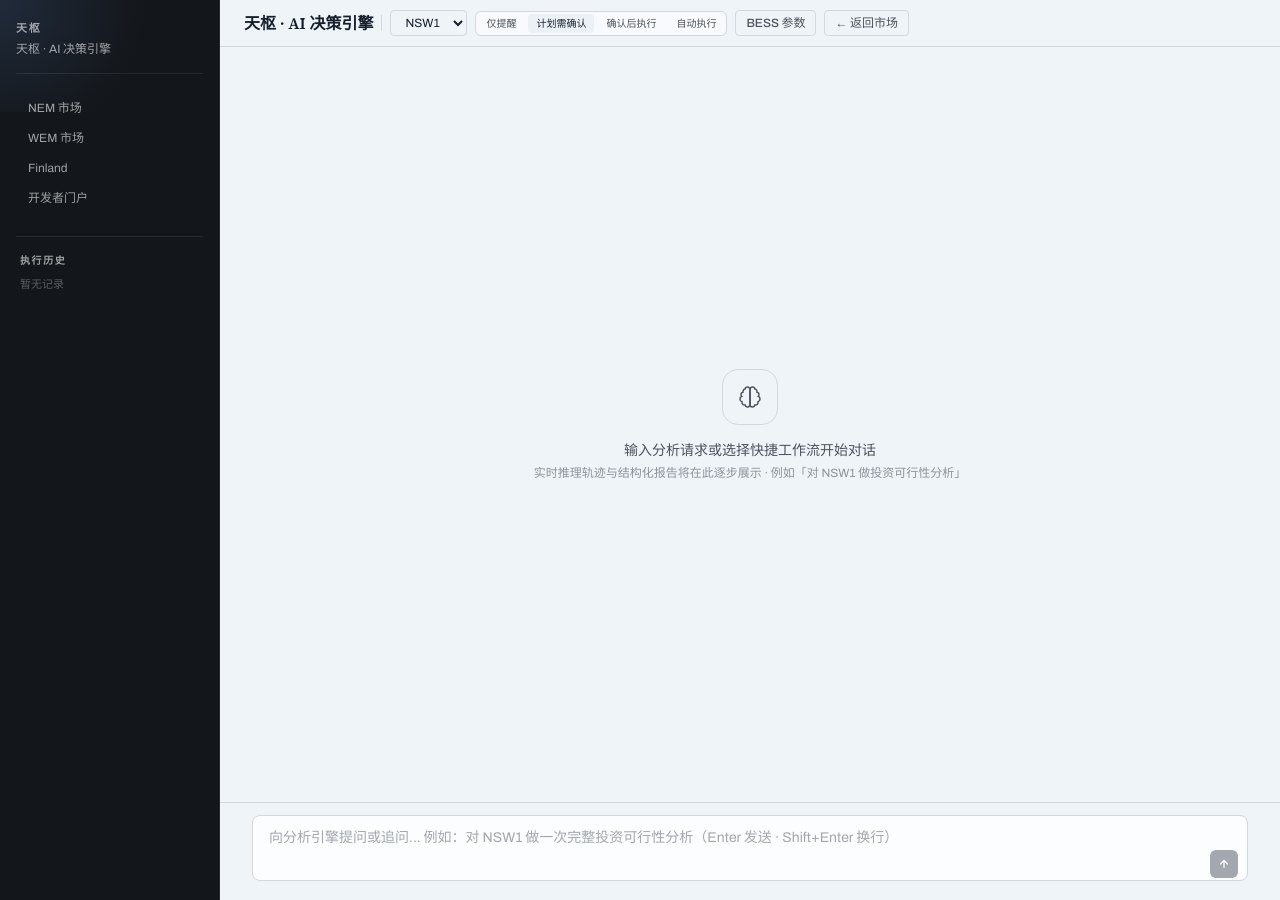
AgentPage P0 行为 › Enter 直接发送；Shift+Enter 不发送
The width and height of the screenshot is (1280, 900).
Replace the text in the text box with placeholder "投资可行性分析" with "换行测试" at (750, 848), box x1=252 y1=815 x2=1248 y2=881
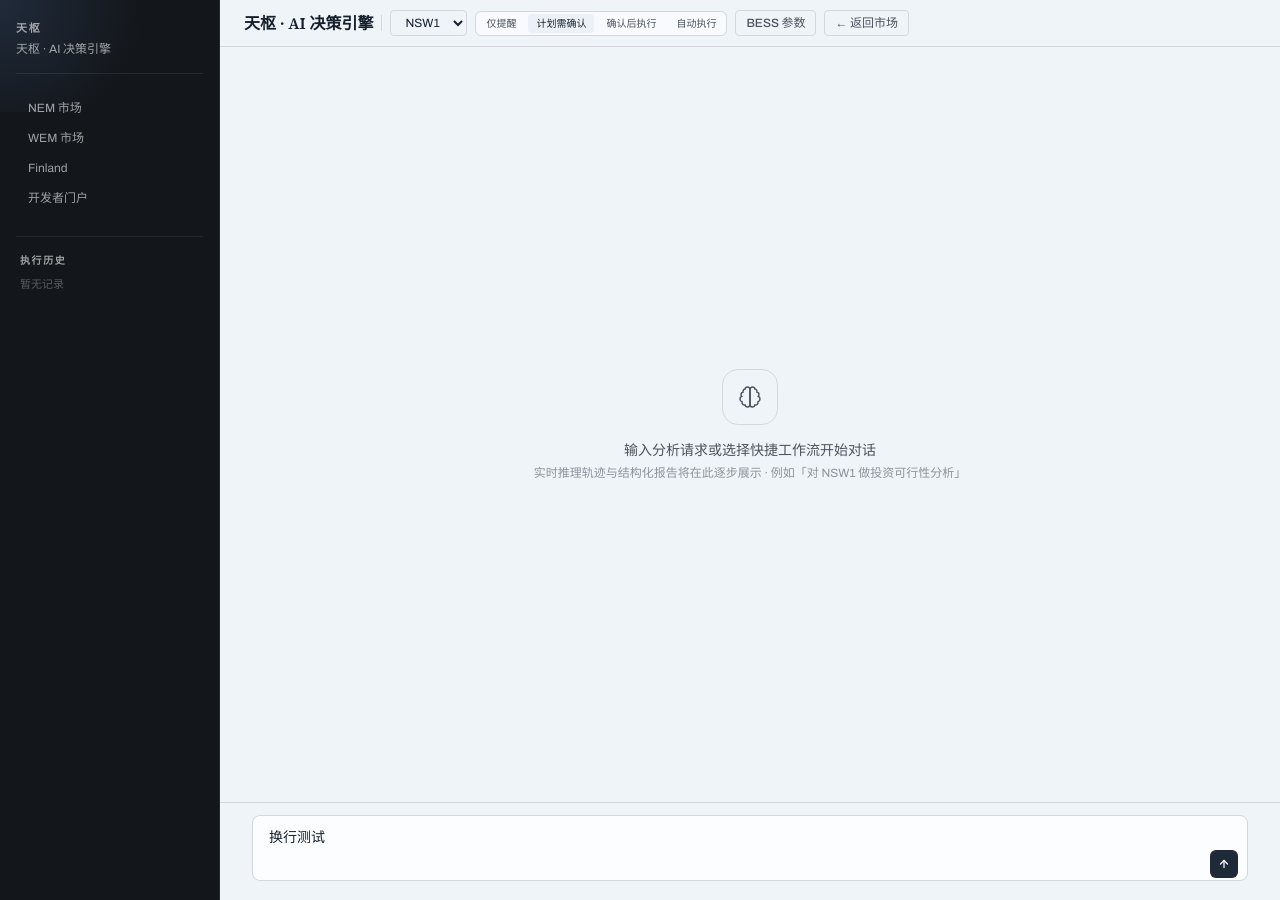
Press Enter in the text box with placeholder "投资可行性分析", box x1=252 y1=815 x2=1248 y2=881
Replace the text in the text box with placeholder "投资可行性分析" with "测试问题" at (750, 848), box x1=252 y1=815 x2=1248 y2=881
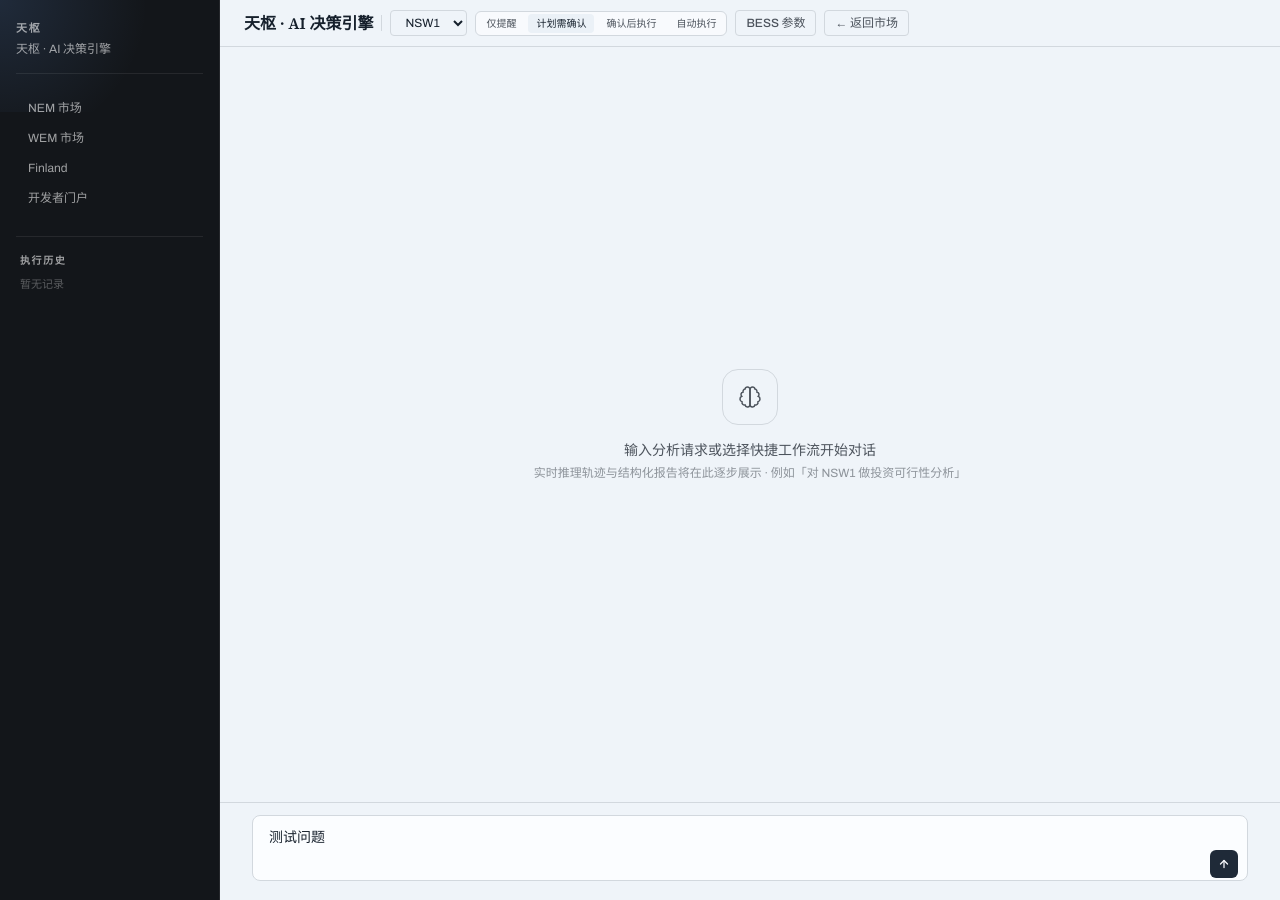
Press Enter in the text box with placeholder "投资可行性分析", box x1=252 y1=815 x2=1248 y2=881
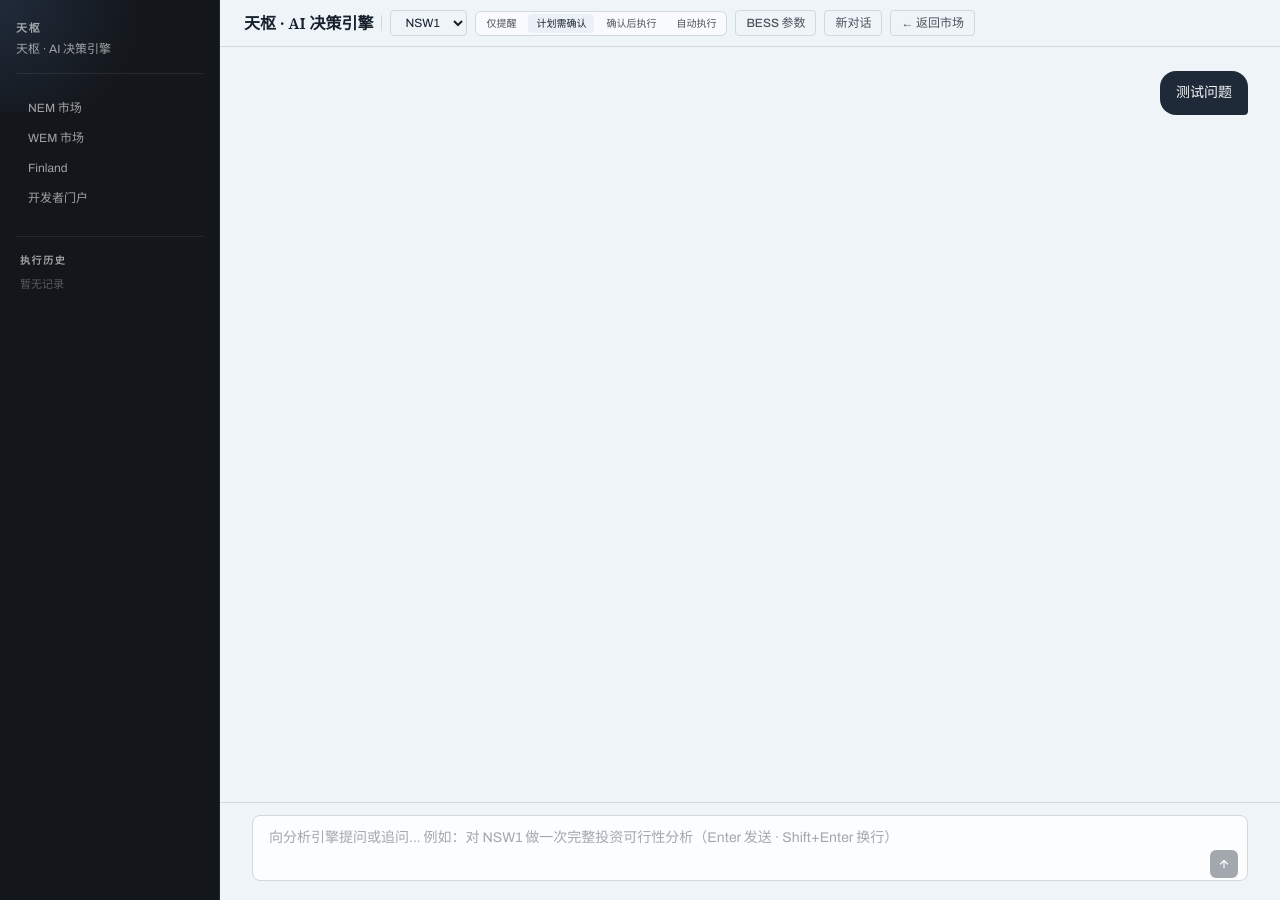
Expected: the text "测试问题" is shown, x1=1160 y1=71 x2=1248 y2=115
